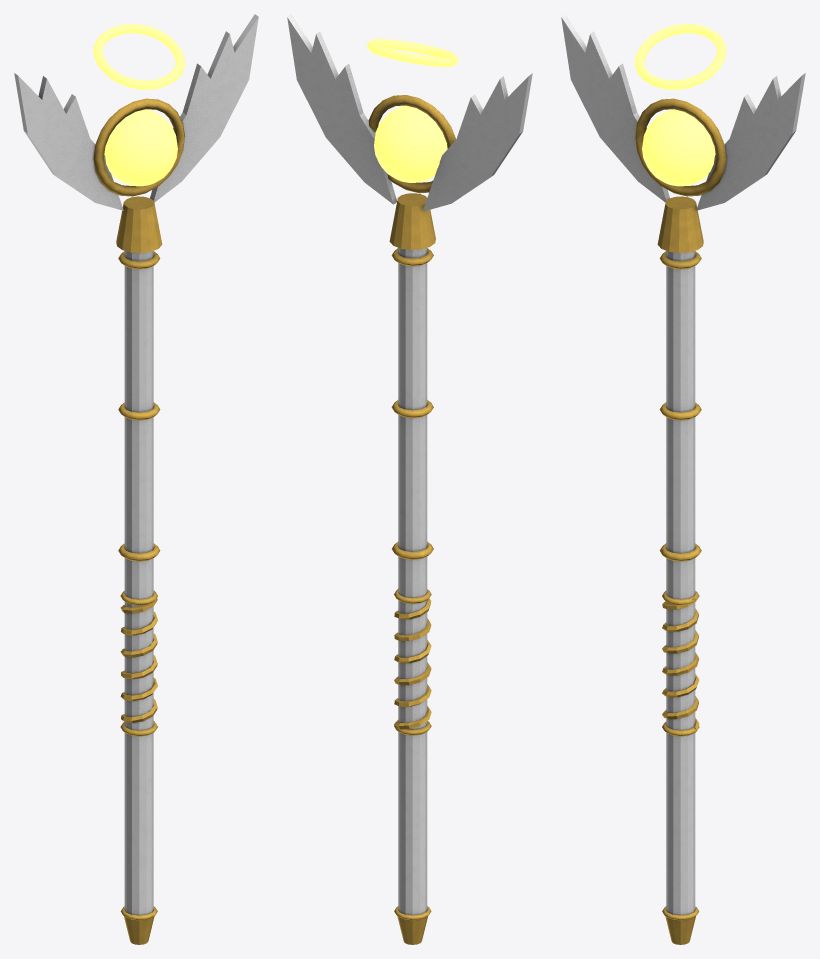
Rendered from 08_heaven_magic.fbx.
3 views of the same model, side by side, from view 1: azimuth 30°, elevation 25°; view 2: azimuth 150°, elevation 25°; view 3: azimuth 330°, elevation 25° (orthographic).
Parts seen in each view (by area): view 1: Weapon; view 2: Weapon; view 3: Weapon.
Boxes of the visible parts, x1,y1,x2,y2 form: Weapon: [14, 14, 258, 944]; Weapon: [287, 14, 532, 944]; Weapon: [561, 14, 805, 944].
Bounding box in the file's own units: 46.94 × 168 × 14.67.
Materials: 2 (1 with a texture image).
